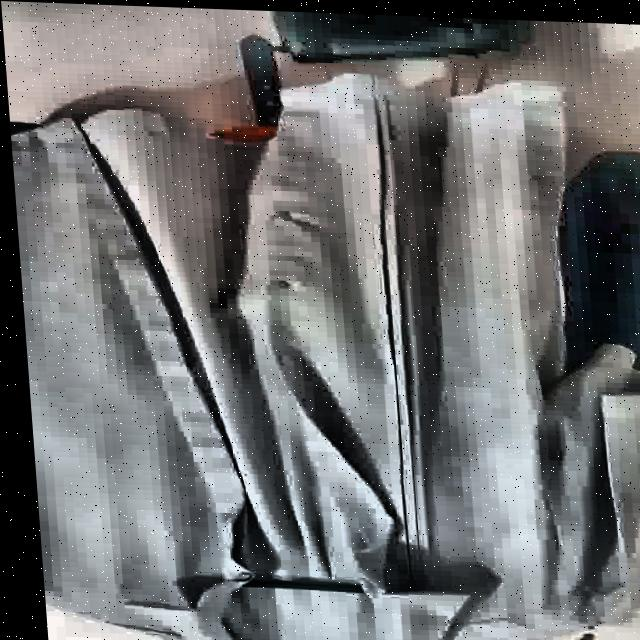clothes: (10, 41, 640, 640)
